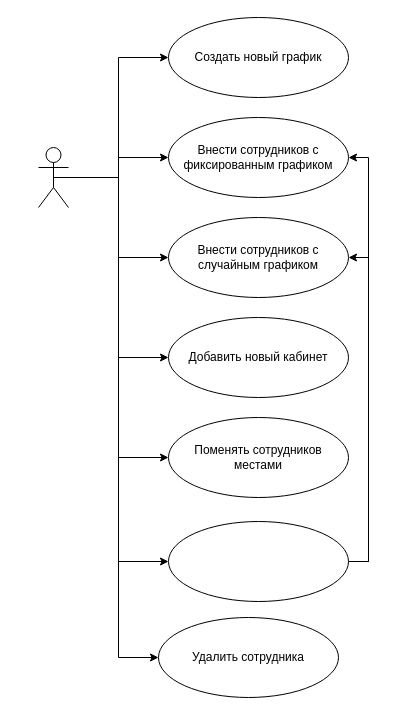
Image size: 394x715. Some labels were removed from this diagram. The centre of each missing label's shape, as x and y in pixels:
"Внести группу сотрудников с условием" belongs at [258,561].
"Исполнитель" belongs at [53,177].
